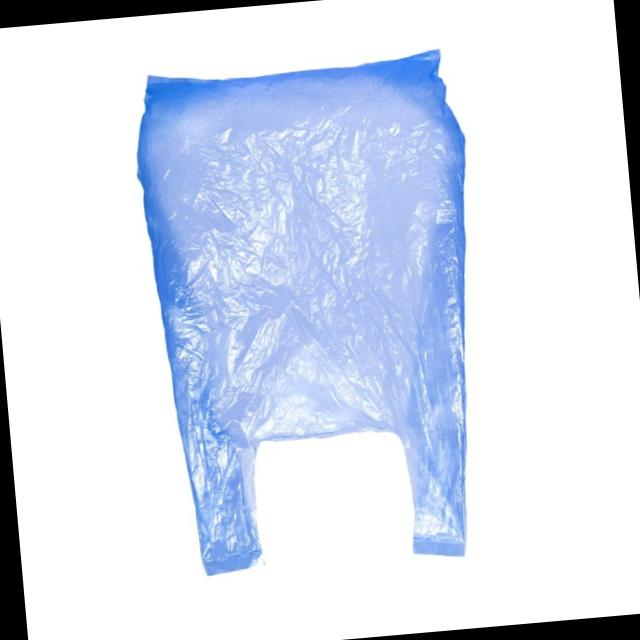plastic_bag: (131, 53, 480, 582)
